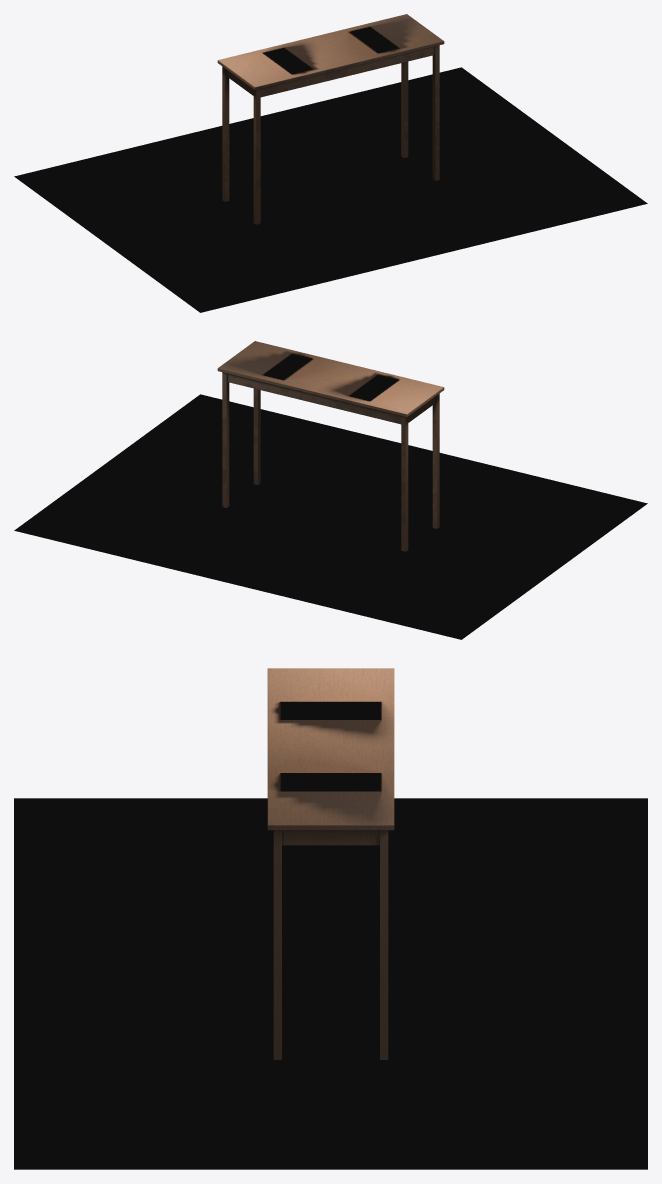
File: 802_stairs.glb
The picture shows the model from 3 angles, top to bottom: view 1: azimuth 30°, elevation 25°; view 2: azimuth 150°, elevation 25°; view 3: azimuth 270°, elevation 25°; orthographic projection. The views are drawn at different scales.
Visible parts, largest first — view 1: Shadow, Table; view 2: Shadow, Table; view 3: Shadow, Table.
Part boxes in pixels (x1,y1,x2,y2): Shadow: (14, 67, 647, 312); Table: (217, 14, 444, 224); Shadow: (14, 394, 647, 639); Table: (217, 341, 444, 551); Shadow: (14, 798, 647, 1169); Table: (267, 668, 394, 1059).
Bounding box in the file's own units: 10.4 × 3.1 × 7.5.
Materials: 2 (2 with a texture image).
